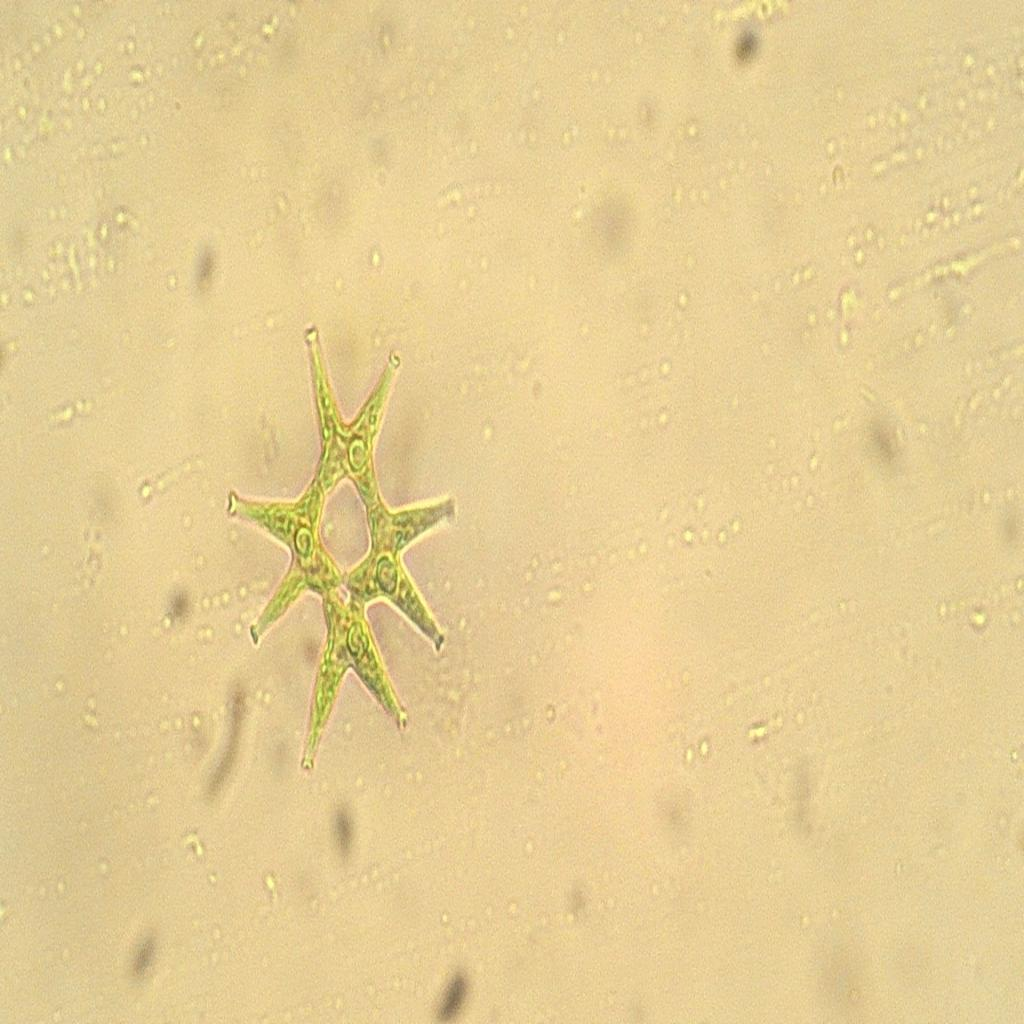Pediastrum_CF: (213, 313, 478, 813)
